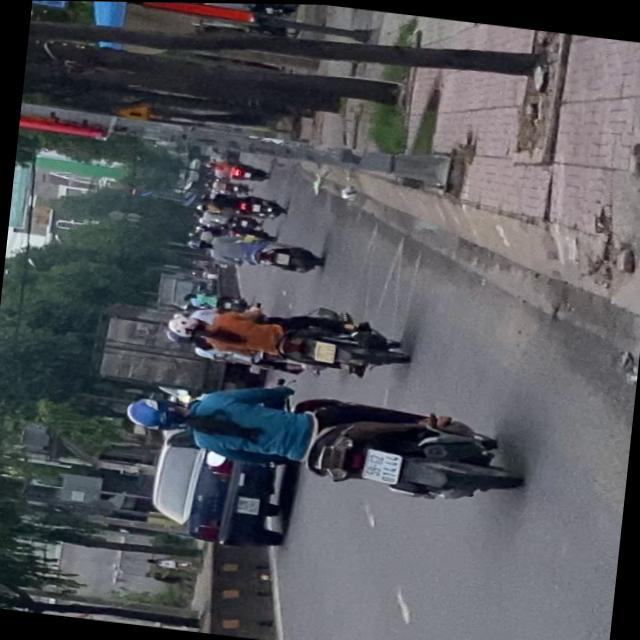helmet: (122, 393, 188, 434), (164, 312, 206, 337), (164, 326, 198, 346)
licenseplate: (110, 366, 528, 511), (159, 290, 411, 384)
nohelmet: (360, 448, 400, 482), (312, 340, 334, 361)
